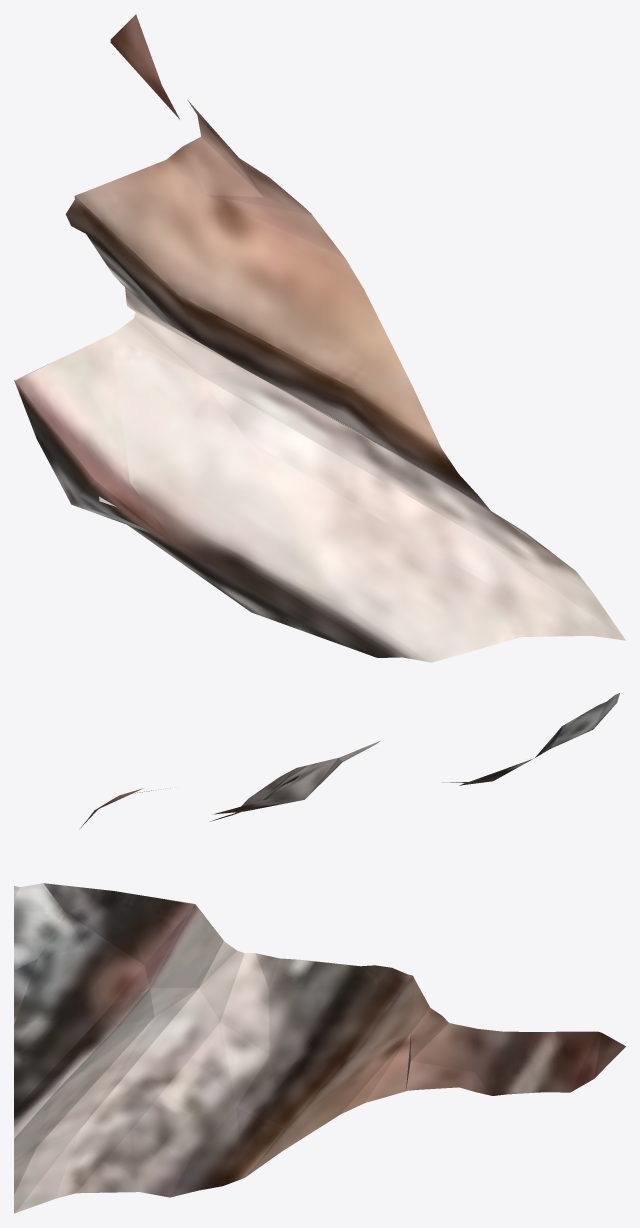
The picture shows the model from 3 angles, top to bottom: view 1: azimuth 30°, elevation 25°; view 2: azimuth 150°, elevation 25°; view 3: azimuth 270°, elevation 25°; orthographic projection. The views are drawn at different scales.
Bounding box in the file's own units: 0.2866 × 0.1371 × 0.454.
1 material, 1 textured.
